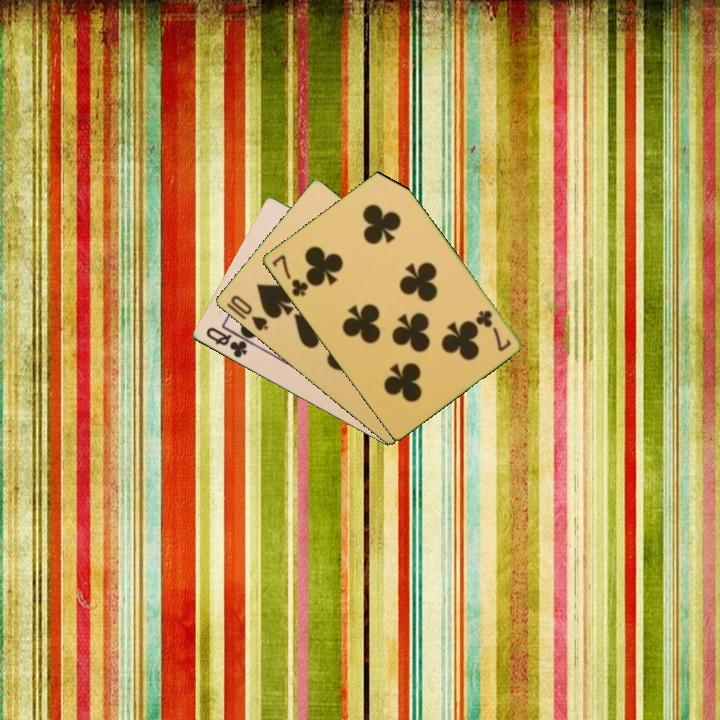10s: (227, 292, 271, 334)
7c: (268, 251, 311, 299), (472, 306, 514, 355)
Qc: (202, 324, 255, 361)
